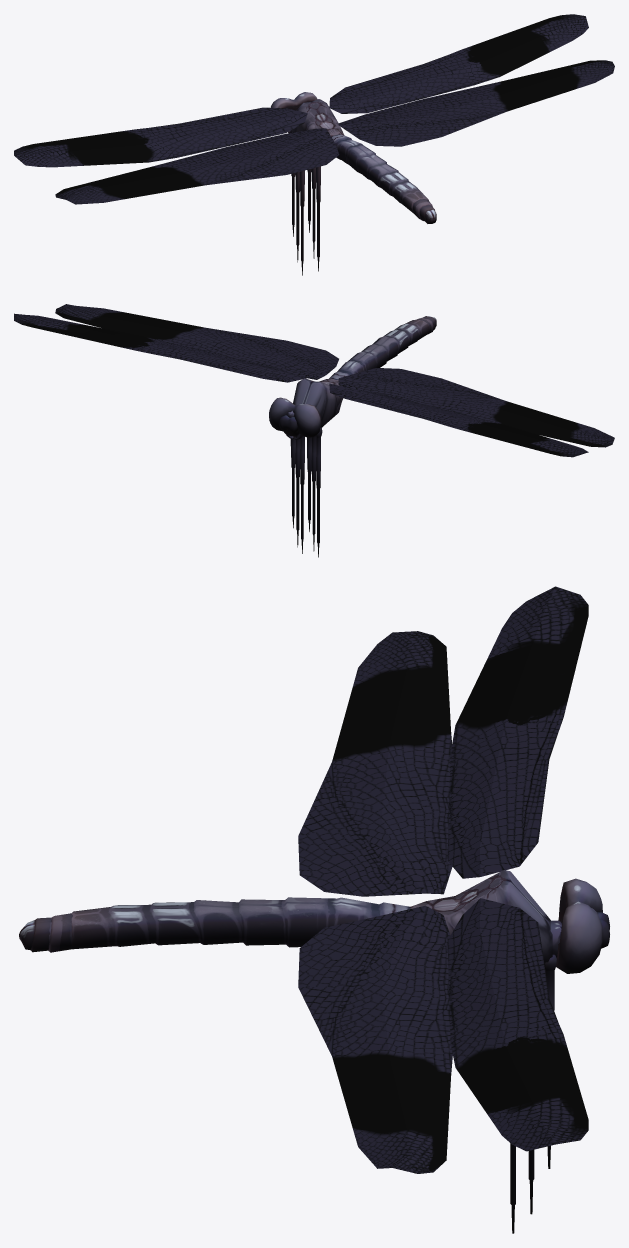
Rendered from wea.fbx.
3 renders of one model, top to bottom at view 1: azimuth 30°, elevation 25°; view 2: azimuth 150°, elevation 25°; view 3: azimuth 270°, elevation 25°, orthographic. The views are drawn at different scales.
Visible parts, largest first — view 1: alas.019, cuerpo.008; view 2: alas.019, cuerpo.008; view 3: alas.019, cuerpo.008.
Boxes of the visible parts, <box> form: alas.019: <box>14,14,614,204</box>; cuerpo.008: <box>270,92,436,275</box>; alas.019: <box>14,304,614,457</box>; cuerpo.008: <box>269,316,436,557</box>; alas.019: <box>298,586,588,1173</box>; cuerpo.008: <box>19,870,609,1233</box>.
Bounding box in the file's own units: 3 × 0.9026 × 1.34.
2 materials, 2 textured.
